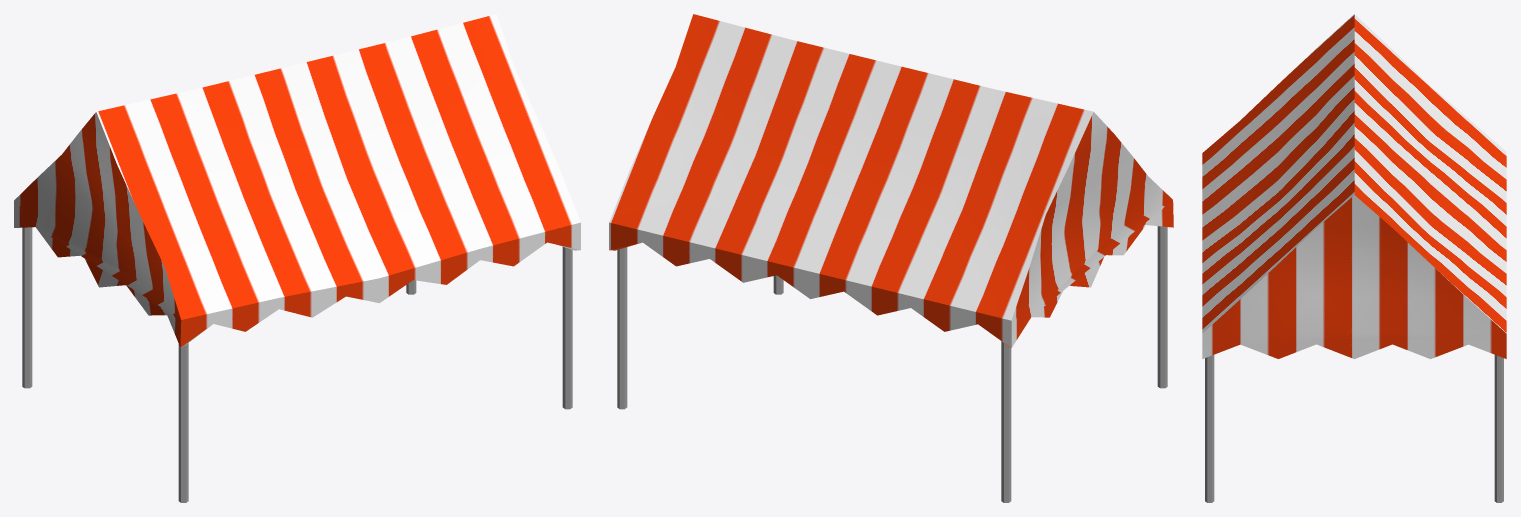
The model's file is tentoRED1006.fbx.
The picture shows the model from 3 angles, left to right: view 1: azimuth 30°, elevation 25°; view 2: azimuth 150°, elevation 25°; view 3: azimuth 270°, elevation 25°; orthographic projection. The views are drawn at different scales.
Parts seen in each view (by area): view 1: Cube, Cylinder; view 2: Cube, Cylinder; view 3: Cube, Cylinder.
Part boxes in pixels (x1,y1,x2,y2): Cube: [14, 14, 580, 347]; Cylinder: [22, 227, 572, 502]; Cube: [609, 14, 1173, 347]; Cylinder: [617, 226, 1167, 502]; Cube: [1202, 14, 1506, 358]; Cylinder: [1205, 355, 1503, 502].
Bounding box in the file's own units: 400 × 318 × 283.
